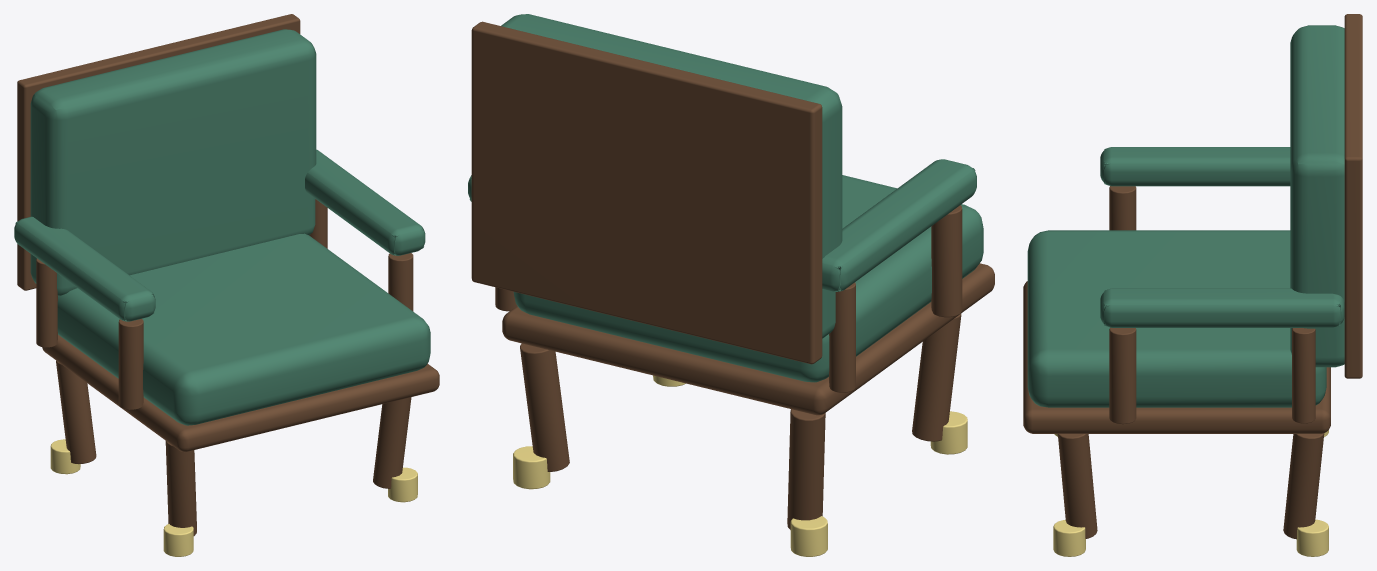
The model's file is club_chair.glb.
The picture shows the model from 3 angles, left to right: view 1: azimuth 30°, elevation 25°; view 2: azimuth 150°, elevation 25°; view 3: azimuth 270°, elevation 25°; orthographic projection. The views are drawn at different scales.
Visible parts, largest first — view 1: Backrest_Main.001, SeatCushion.001, SeatBase.001, Backrest_Wood.001, ArmrestPad_L.001, ArmrestPad_R.001, Leg_BackL.001, Leg_FrontR.001, Leg_FrontL.001, ArmPostFront_L.001, ArmPostBack_L.001, ArmPostFront_R.001 (+4 smaller); view 2: Backrest_Wood.001, SeatCushion.001, SeatBase.001, Backrest_Main.001, ArmrestPad_L.001, Leg_BackR.001, Leg_FrontL.001, Leg_BackL.001, ArmPostFront_L.001, ArmPostBack_L.001, Ferrule_BackL.001, Ferrule_BackR.001 (+1 smaller); view 3: SeatCushion.001, Backrest_Main.001, ArmrestPad_R.001, SeatBase.001, ArmrestPad_L.001, Backrest_Wood.001, Leg_BackR.001, Leg_FrontR.001, ArmPostFront_R.001, ArmPostBack_R.001, ArmPostFront_L.001, Ferrule_BackR.001 (+1 smaller).
Part boxes in pixels (x1,y1,x2,y2): Backrest_Main.001: (30,29,316,296); SeatCushion.001: (57,233,430,425); SeatBase.001: (42,335,439,451); Backrest_Wood.001: (17,14,300,290); ArmrestPad_L.001: (14,216,155,321); ArmrestPad_R.001: (305,149,425,255); Leg_BackL.001: (56,360,96,464); Leg_FrontR.001: (373,397,411,488); Leg_FrontL.001: (165,441,196,535); ArmPostFront_L.001: (118,318,143,409); ArmPostBack_L.001: (36,258,57,347); ArmPostFront_R.001: (388,253,413,311); Backrest_Wood.001: (471,21,822,364); SeatCushion.001: (513,175,983,382); SeatBase.001: (502,263,994,415); Backrest_Main.001: (501,14,842,338); ArmrestPad_L.001: (822,159,976,291); Leg_BackR.001: (520,343,569,471); Leg_FrontL.001: (912,314,961,441); Leg_BackL.001: (787,409,825,529); ArmPostFront_L.001: (931,205,962,317); ArmPostBack_L.001: (829,282,855,392); Ferrule_BackL.001: (790,516,827,556); Ferrule_BackR.001: (513,446,550,489); SeatCushion.001: (1027,230,1326,407); Backrest_Main.001: (1290,25,1344,367); ArmrestPad_R.001: (1100,288,1344,327); SeatBase.001: (1023,281,1330,433); ArmrestPad_L.001: (1100,147,1290,186); Backrest_Wood.001: (1344,14,1362,378); Leg_BackR.001: (1283,433,1324,539); Leg_FrontR.001: (1057,434,1097,538); ArmPostFront_R.001: (1109,327,1136,424); ArmPostBack_R.001: (1292,328,1315,423); ArmPostFront_L.001: (1109,186,1136,230); Ferrule_BackR.001: (1296,519,1328,556).
Bounding box in the file's own units: 0.84 × 0.99 × 0.75.
